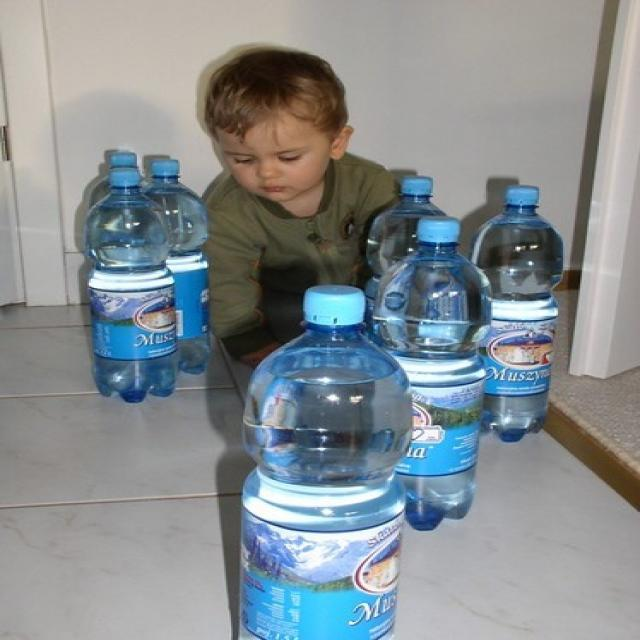plastic_bottle: (239, 284, 412, 640), (373, 217, 492, 531), (469, 185, 563, 442), (84, 167, 175, 404), (144, 160, 213, 375), (366, 176, 446, 342), (90, 153, 142, 207)
